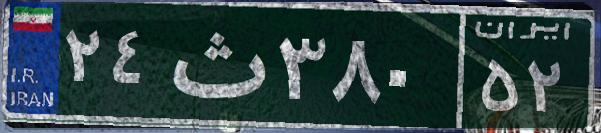0: (385, 28, 445, 110)
2: (57, 26, 110, 107), (525, 38, 570, 115)
3: (273, 28, 330, 110)
4: (110, 28, 158, 105)
5: (475, 38, 525, 113)
8: (330, 28, 385, 110)
ث: (158, 15, 273, 115)
